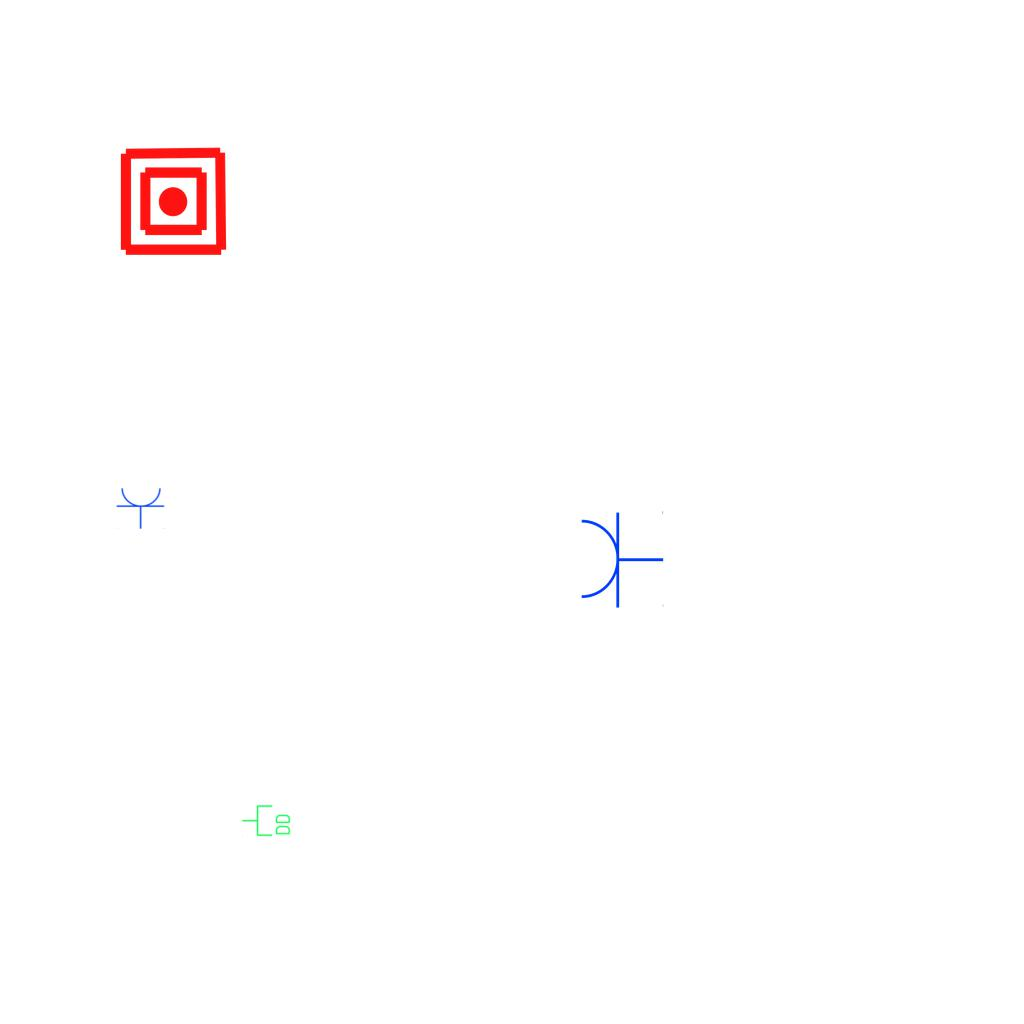Datenanschluss_zweifach: (241, 804, 292, 838)
NAM-Nichtautomatischer_Melder: (117, 145, 230, 258)
Schukosteckdose_einfach: (577, 509, 664, 609), (116, 486, 166, 529)
